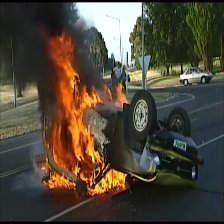fire_h: (47, 32, 108, 186), (86, 169, 127, 195), (42, 172, 76, 189)
fire_l: (114, 83, 128, 108), (103, 84, 113, 101), (42, 157, 52, 173), (42, 130, 49, 148)
